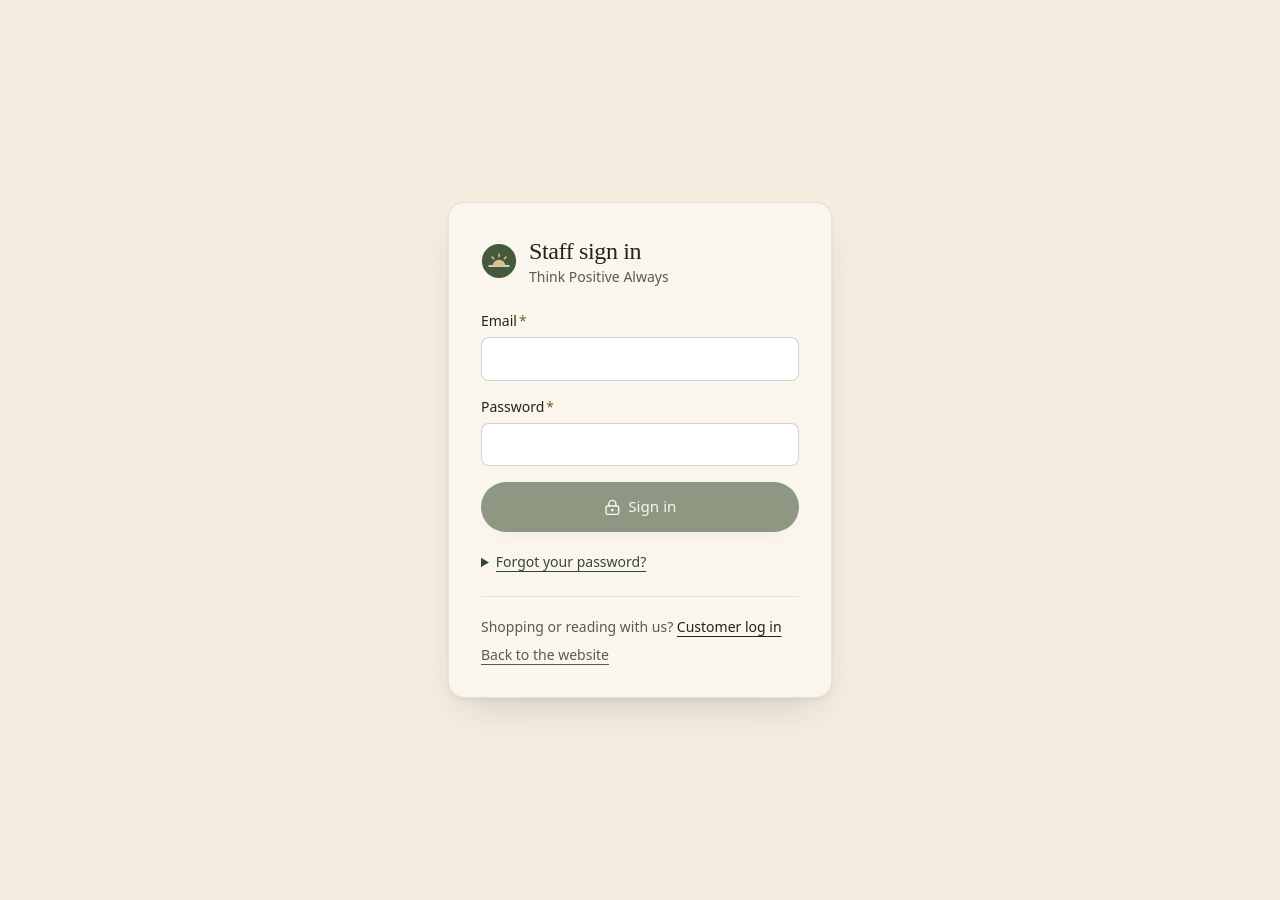
admin authentication › redirects anonymous visitors to the login page and back after signing in
The width and height of the screenshot is (1280, 900).
Expected: the heading "Staff sign in" is shown, x1=529 y1=238 x2=641 y2=264
In the field labelled "Email*": (640, 359) x1=481 y1=337 x2=799 y2=381, type "editor@example.org"
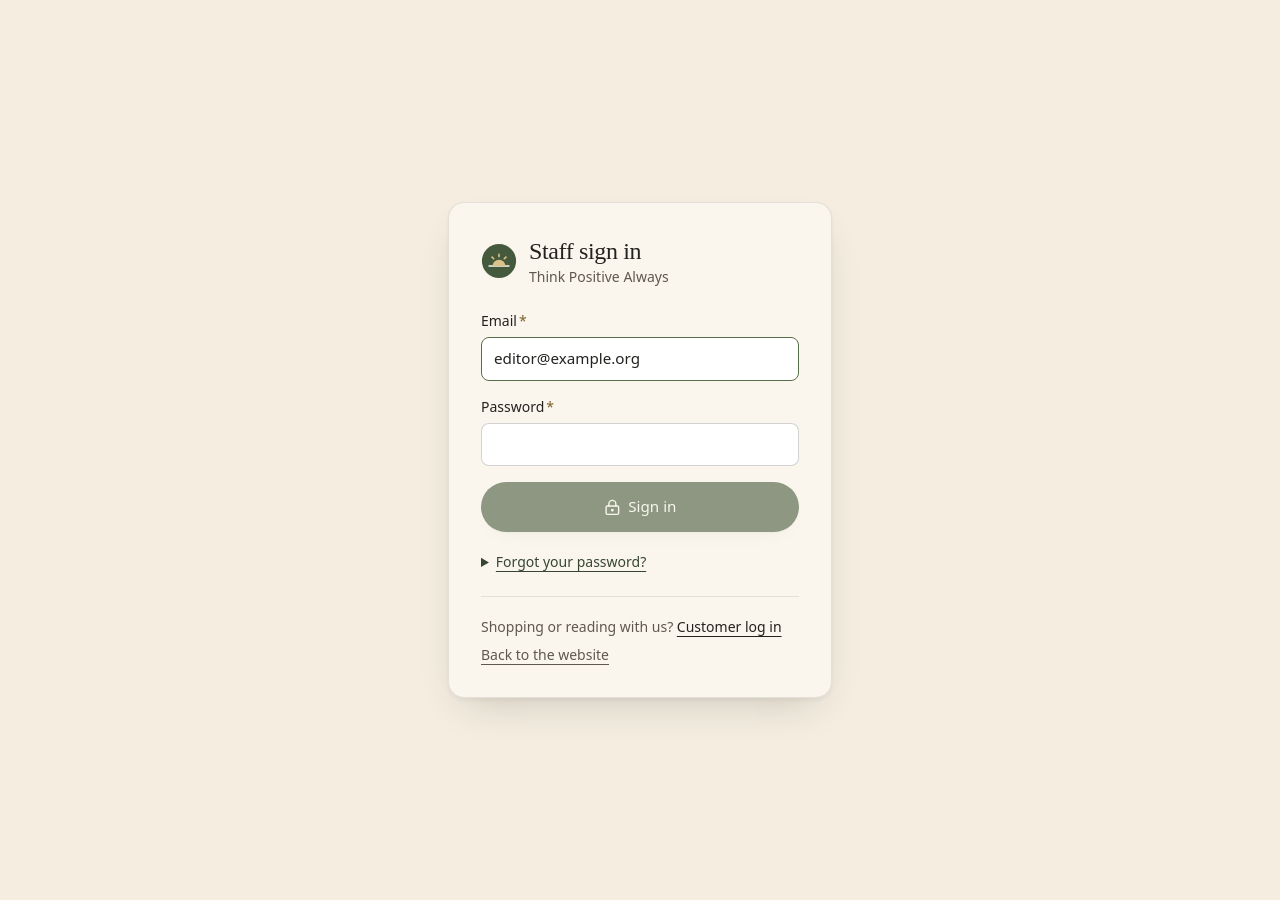
In the password field labelled "Password*": (640, 444) x1=481 y1=423 x2=799 y2=466, type "Correct-Horse-Battery-9"
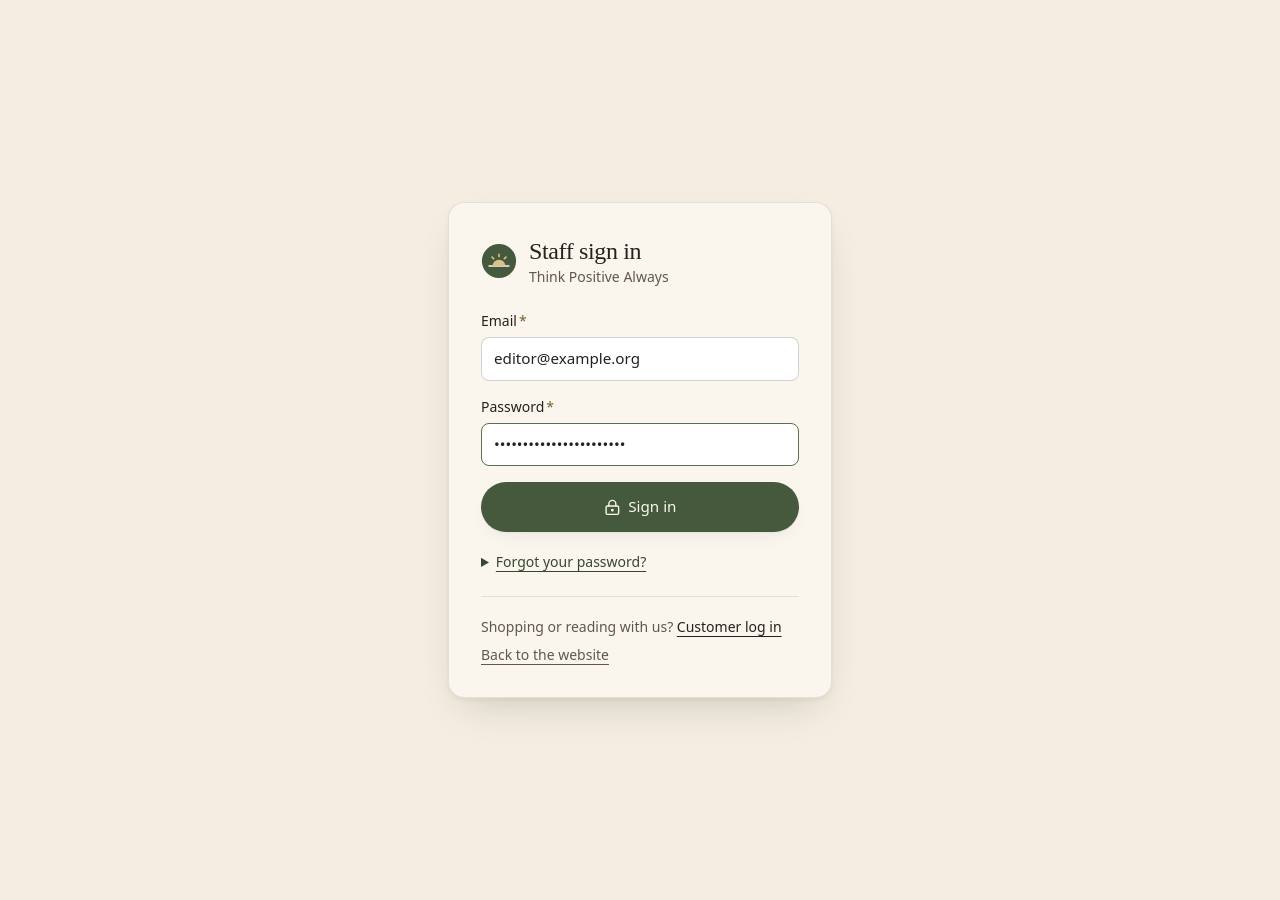
Click the button "Sign in": (640, 507) x1=481 y1=482 x2=799 y2=532
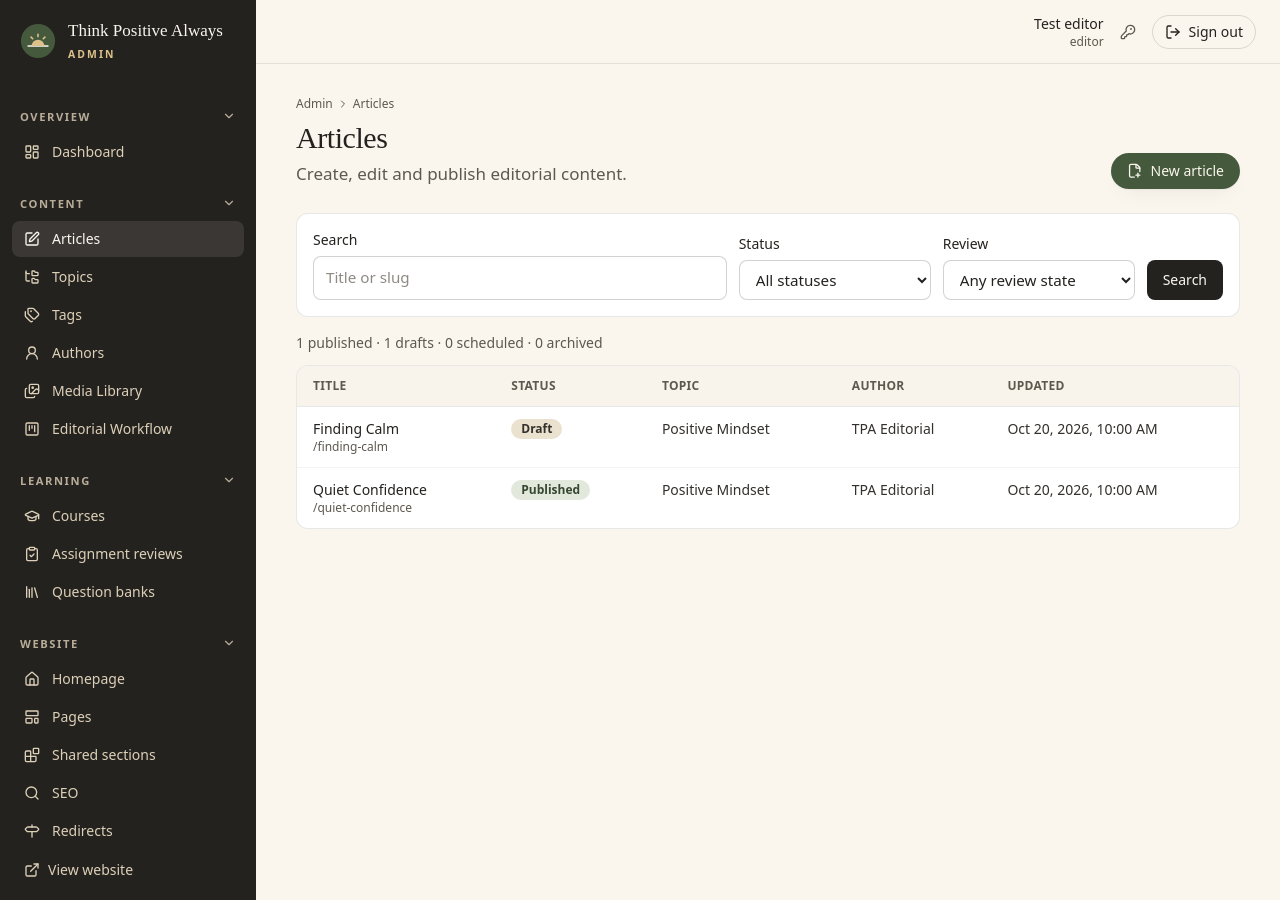
Now the heading "Articles" is shown, box x1=296 y1=121 x2=387 y2=154
